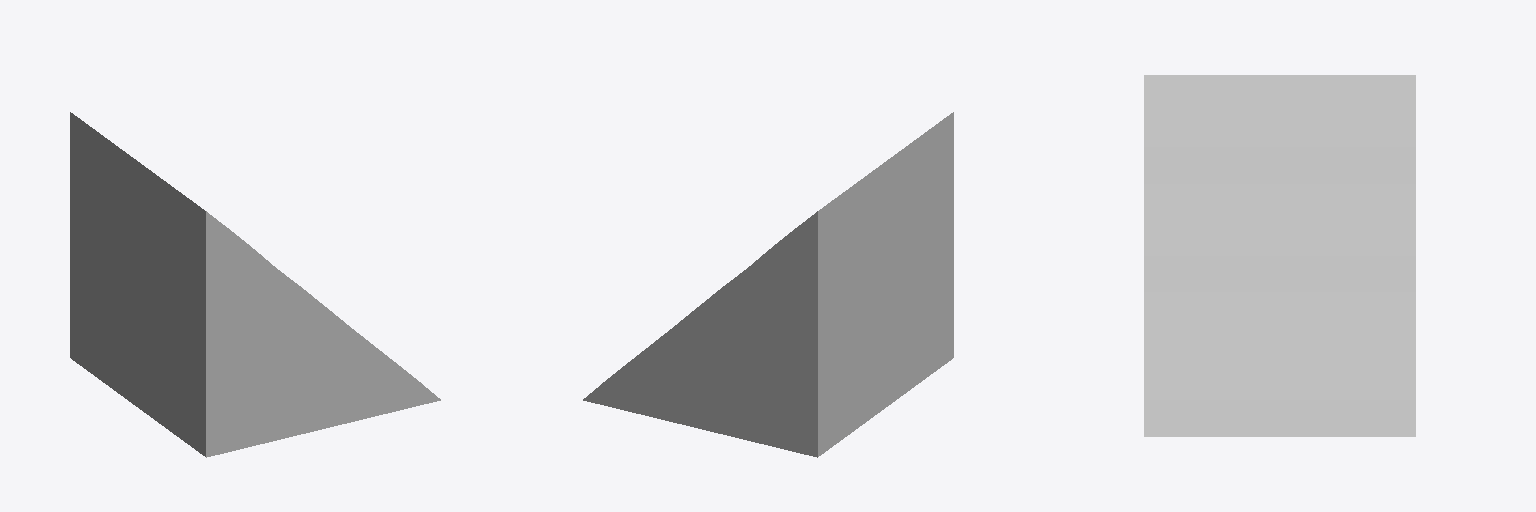
File: edgeramp.obj
3 renders of one model, left to right at view 1: azimuth 30°, elevation 25°; view 2: azimuth 150°, elevation 25°; view 3: azimuth 270°, elevation 25°, orthographic.
Visible parts, largest first — view 1: Cube; view 2: Cube; view 3: Cube.
Part boxes in pixels (bbox=[...]): Cube: bbox=[70, 112, 440, 457]; Cube: bbox=[583, 112, 953, 457]; Cube: bbox=[1144, 75, 1415, 436].
Size of the model in its own units: 2 by 2 by 2.